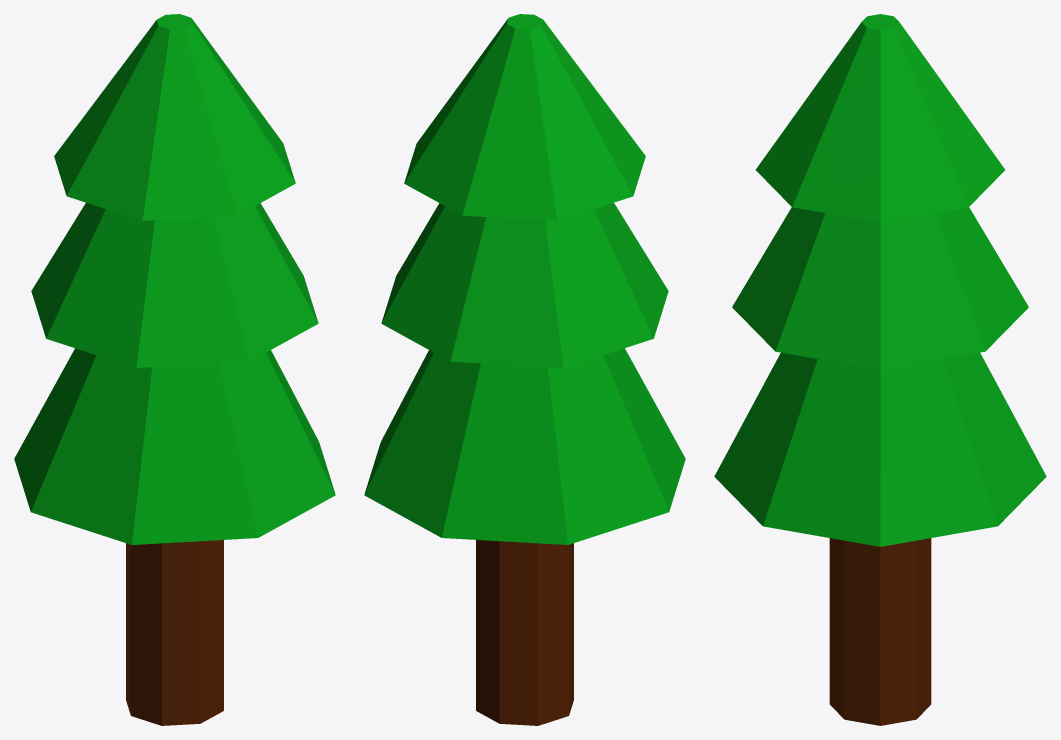
The model's file is lowpolytree3.fbx.
3 renders of one model, left to right at view 1: azimuth 30°, elevation 25°; view 2: azimuth 150°, elevation 25°; view 3: azimuth 270°, elevation 25°, orthographic.
Parts seen in each view (by area): view 1: Cylinder; view 2: Cylinder; view 3: Cylinder.
Part boxes in pixels (x1,y1,x2,y2): Cylinder: [14, 14, 335, 725]; Cylinder: [364, 14, 685, 725]; Cylinder: [714, 14, 1046, 725].
Size of the model in its own units: 545 by 1235 by 545.
